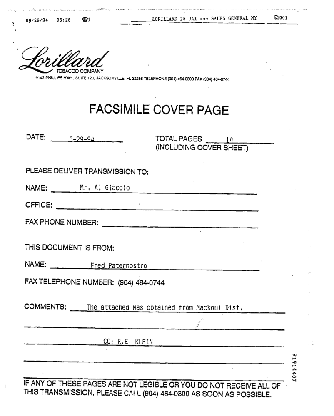textline: (22, 317, 284, 331), (22, 334, 284, 348), (22, 352, 284, 365), (22, 369, 284, 382), (69, 300, 286, 314), (55, 200, 258, 213), (48, 260, 260, 272), (50, 184, 258, 196), (100, 218, 258, 230), (204, 137, 275, 145), (49, 136, 124, 143)
